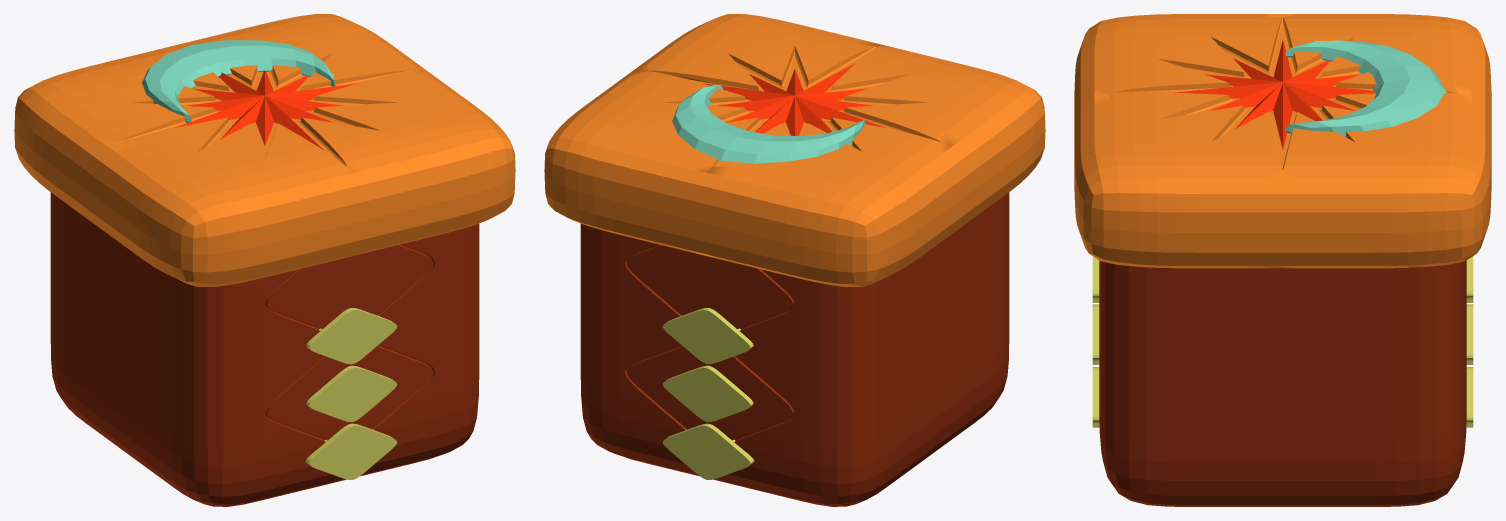
The model's file is ExtraBlock_baked.fbx.
3 views of the same model, side by side, from view 1: azimuth 30°, elevation 25°; view 2: azimuth 150°, elevation 25°; view 3: azimuth 270°, elevation 25° (orthographic). The views are drawn at different scales.
Parts seen in each view (by area): view 1: block4_grass, block4_soil, block4_soil_art, block4_moon, block4_star; view 2: block4_grass, block4_soil, block4_soil_art, block4_moon, block4_star; view 3: block4_grass, block4_soil, block4_moon, block4_star, block4_soil_art.
Boxes of the visible parts, bbox=[...] form: block4_grass: bbox=[14, 14, 515, 286]; block4_soil: bbox=[50, 192, 479, 506]; block4_soil_art: bbox=[305, 308, 397, 479]; block4_moon: bbox=[142, 40, 335, 122]; block4_star: bbox=[173, 71, 357, 150]; block4_grass: bbox=[544, 14, 1045, 286]; block4_soil: bbox=[580, 192, 1009, 506]; block4_soil_art: bbox=[662, 308, 754, 479]; block4_moon: bbox=[672, 84, 865, 163]; block4_star: bbox=[702, 63, 886, 135]; block4_grass: bbox=[1074, 14, 1491, 268]; block4_soil: bbox=[1099, 260, 1466, 506]; block4_moon: bbox=[1285, 40, 1446, 136]; block4_star: bbox=[1175, 40, 1375, 149]; block4_soil_art: bbox=[1092, 256, 1473, 427].
Bounding box in the file's own units: 237 × 221 × 227.
